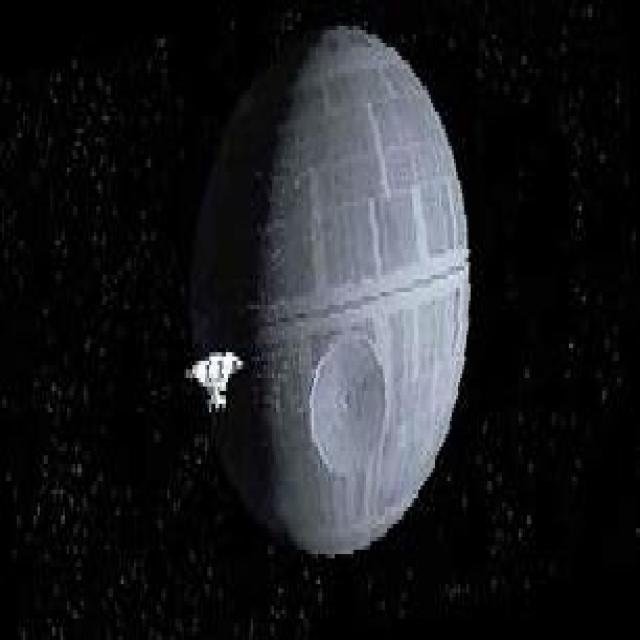Death Star: (195, 28, 476, 562)
